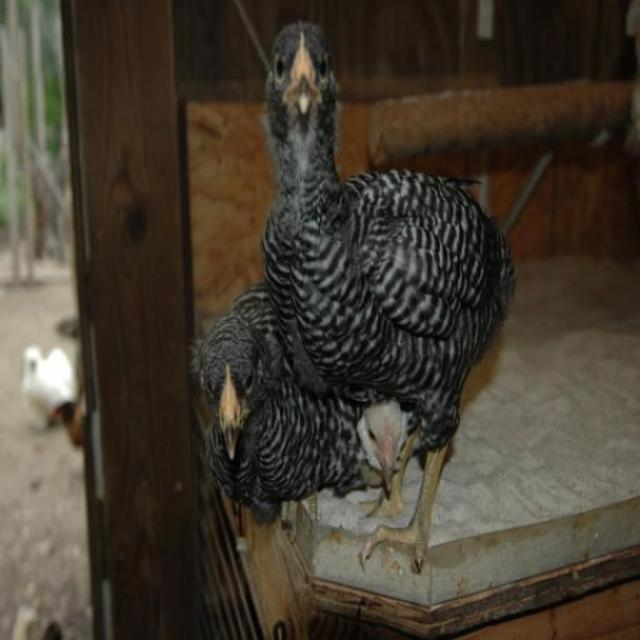Chicken: (263, 15, 517, 567), (184, 278, 391, 539)
